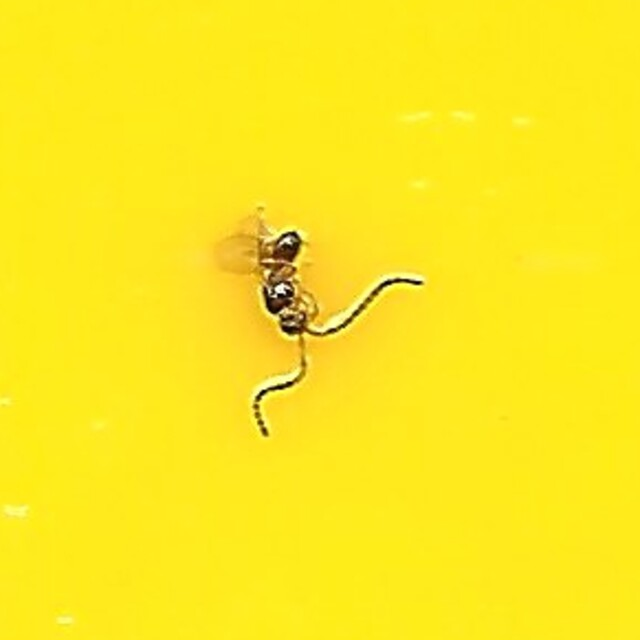Hymenoptera: (220, 205, 420, 435)
